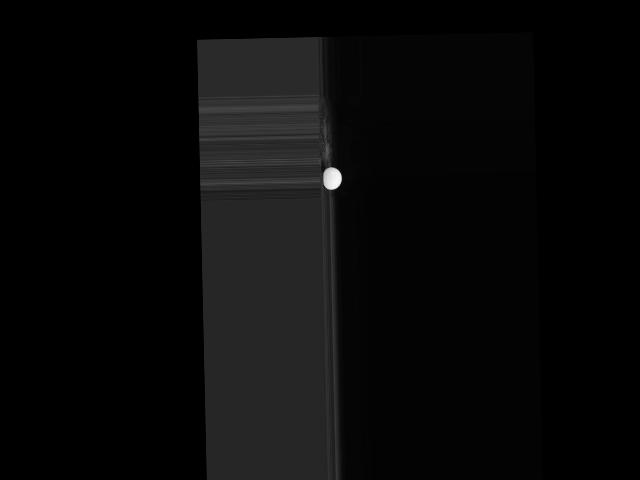egg: (323, 166, 341, 189)
